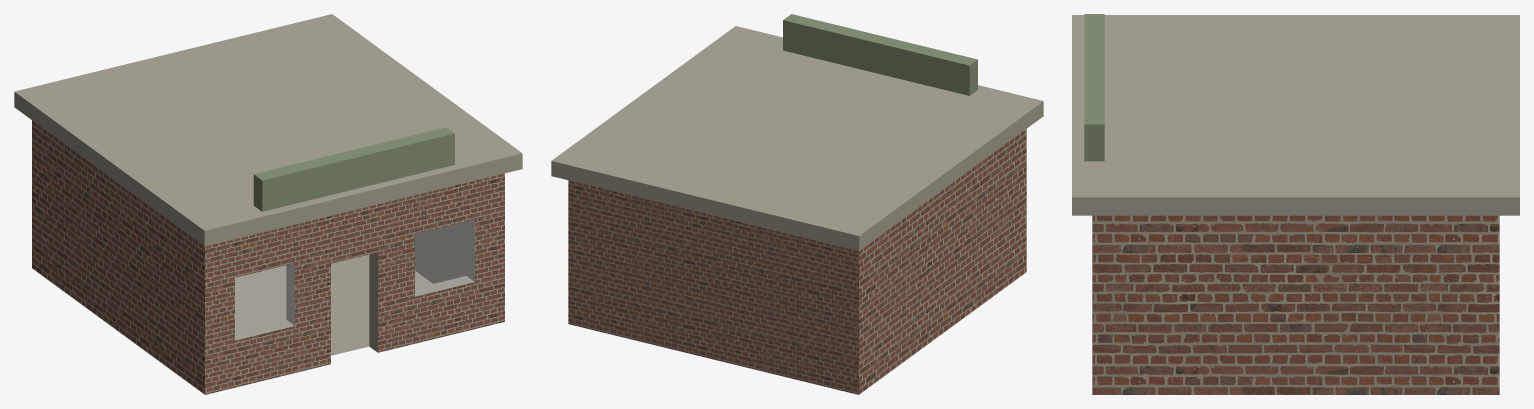
Rendered from small_shop2.glb.
3 views of the same model, side by side, from view 1: azimuth 30°, elevation 25°; view 2: azimuth 150°, elevation 25°; view 3: azimuth 270°, elevation 25° (orthographic). The views are drawn at different scales.
Parts seen in each view (by area): view 1: Mesh_Mesh_head_geo.001_lambert2SG.001; view 2: Mesh_Mesh_head_geo.001_lambert2SG.001; view 3: Mesh_Mesh_head_geo.001_lambert2SG.001.
Boxes of the visible parts, left/top/right/bottom form: Mesh_Mesh_head_geo.001_lambert2SG.001: left=14, top=14, right=522, bottom=394; Mesh_Mesh_head_geo.001_lambert2SG.001: left=551, top=14, right=1043, bottom=394; Mesh_Mesh_head_geo.001_lambert2SG.001: left=1072, top=14, right=1519, bottom=394.
Size of the model in its own units: 2.66 by 1.63 by 2.76.
Materials: 3 (1 with a texture image).
